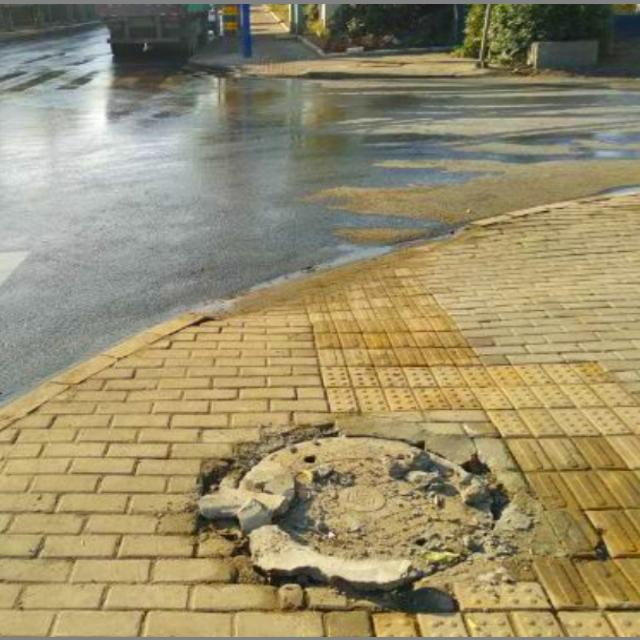circle: (195, 404, 545, 598)
